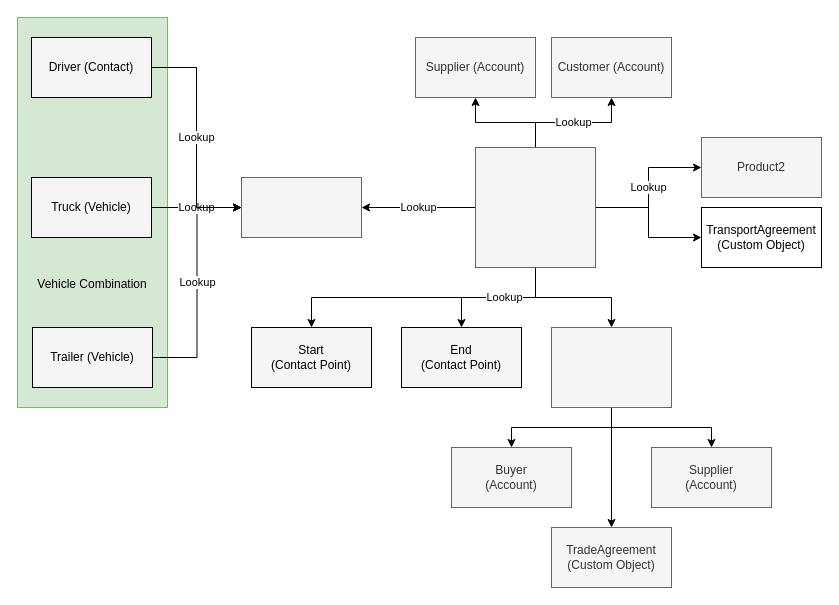
The diagram is 839 pixels wide and 605 high, and some of its shapes have lost their labels. The centre of each missing label's shape, as x and y in pixels:
"Route (Custom Object)" belongs at [301,207].
"Trade (Custom Object) Record Types: Purchase Sale" belongs at [611,367].
"TransportOrder (Custom Object) Record Types: Trade Transport Shipping Transport" belongs at [535,207].
